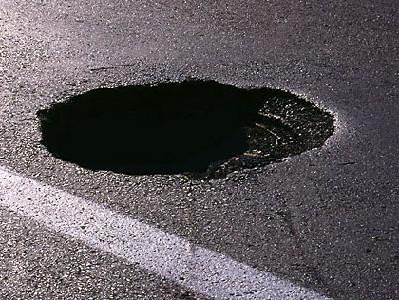pothole: (31, 73, 342, 183)
